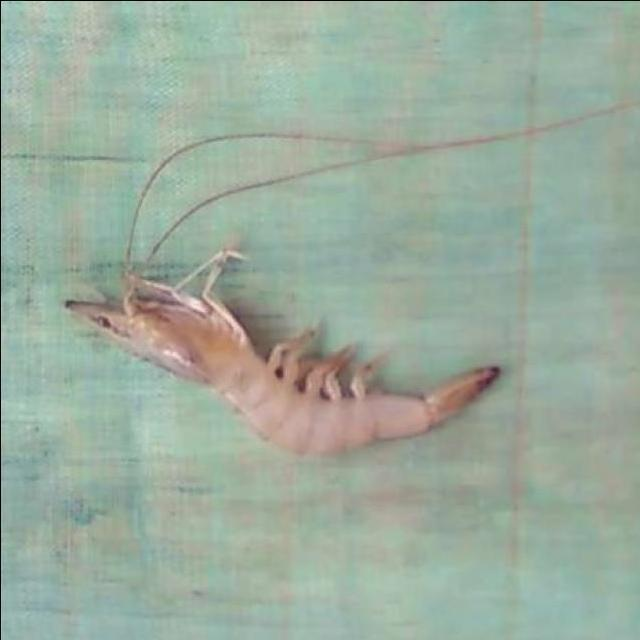shrimp: (64, 248, 500, 455)
